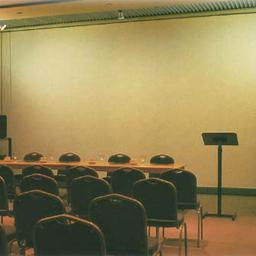Otro Obstaculo: (198, 130, 241, 221)
